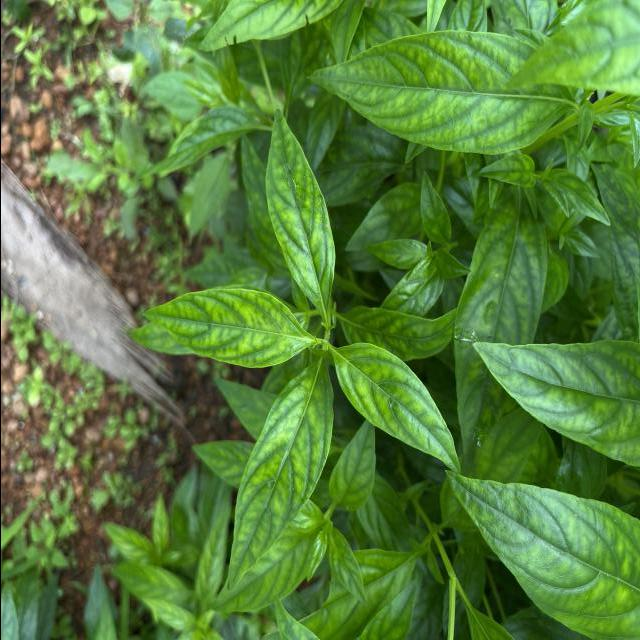Andrographis paniculata: (304, 24, 576, 158), (455, 189, 549, 477), (224, 356, 336, 594), (330, 340, 463, 476), (262, 105, 337, 318), (140, 286, 316, 369), (326, 416, 380, 514)
